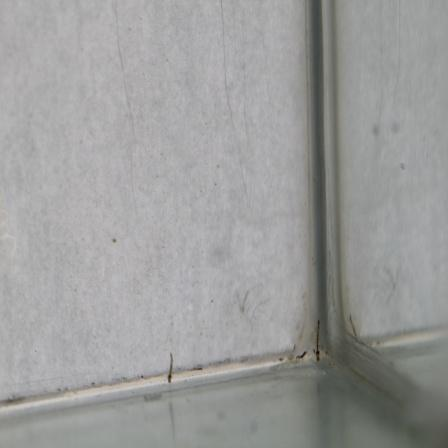Jentik-Nyamuk: (310, 318, 327, 366), (164, 349, 177, 385)
